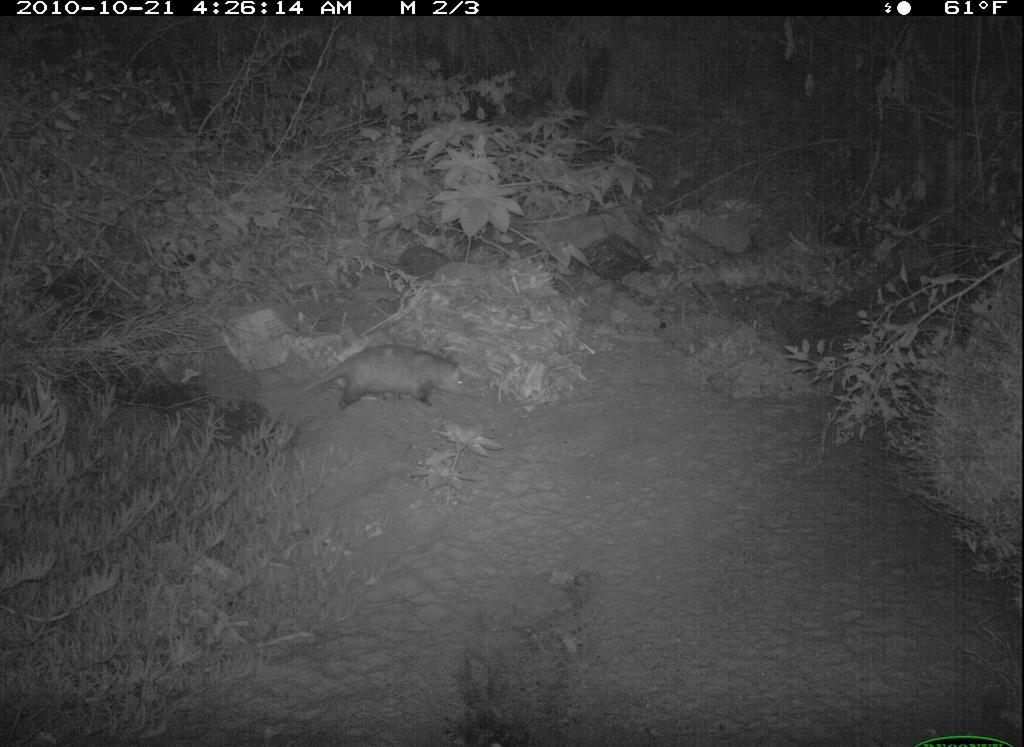opossum: (291, 341, 471, 416)
